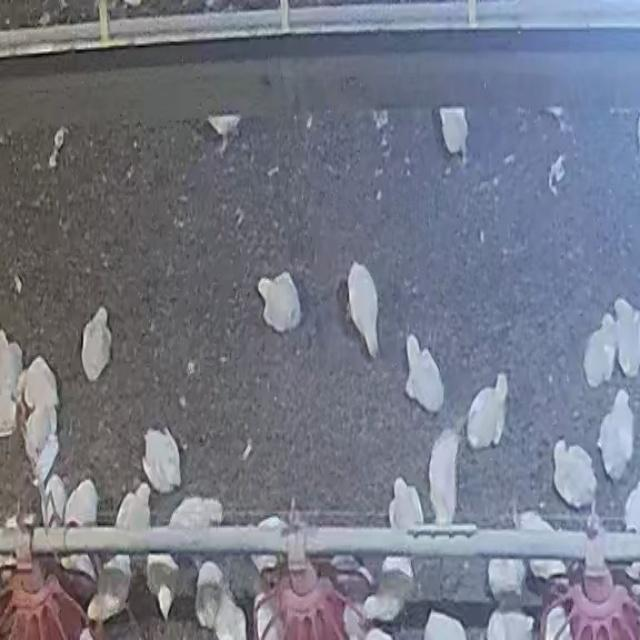chicken: (343, 256, 386, 359), (364, 551, 419, 621), (596, 389, 634, 482), (251, 267, 302, 333), (522, 508, 570, 578), (75, 306, 121, 379), (404, 334, 445, 414), (466, 374, 508, 450), (552, 439, 597, 509), (428, 430, 460, 522), (141, 425, 182, 493), (583, 315, 618, 389), (19, 354, 61, 408), (146, 552, 180, 618), (387, 470, 425, 528), (613, 298, 640, 376), (194, 563, 228, 624), (23, 400, 53, 469), (115, 482, 153, 536), (62, 478, 100, 529), (168, 496, 222, 530), (216, 587, 246, 640)
